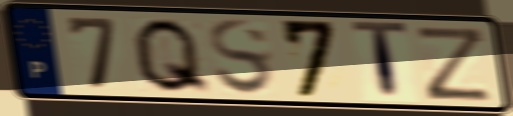7: (277, 17, 340, 101), (65, 14, 121, 92)
Q: (129, 15, 215, 96)
S: (206, 17, 278, 99)
T: (348, 19, 412, 105)
Z: (412, 23, 495, 103)
